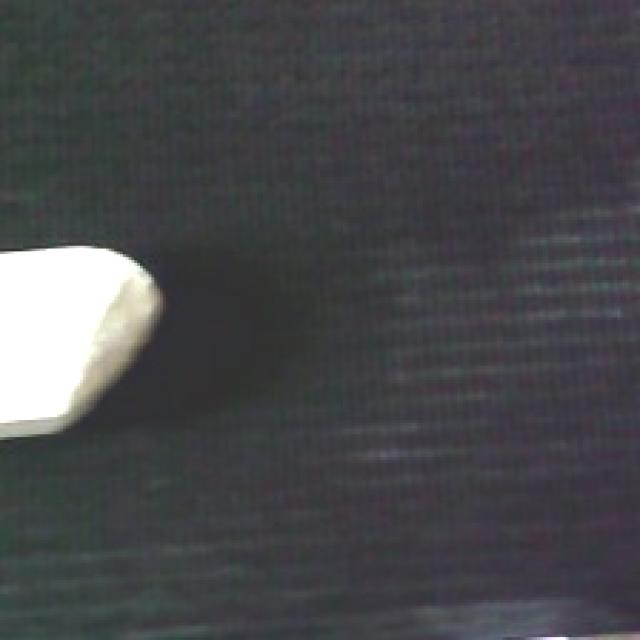defected: (0, 237, 171, 451)
